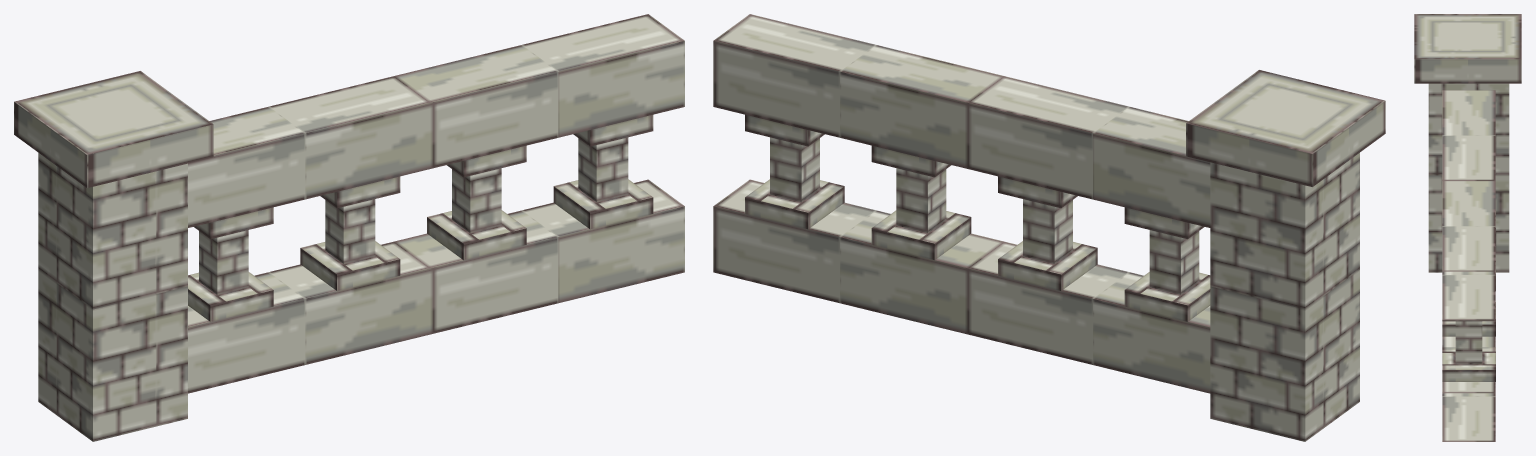
The model's file is stone_railing_with_middlepiece.fbx.
3 renders of one model, left to right at view 1: azimuth 30°, elevation 25°; view 2: azimuth 150°, elevation 25°; view 3: azimuth 270°, elevation 25°, orthographic. The views are drawn at different scales.
Parts seen in each view (by area): view 1: stone_railing_with_middlepiece; view 2: stone_railing_with_middlepiece; view 3: stone_railing_with_middlepiece.
Boxes of the visible parts, x1,y1,x2,y2 form: stone_railing_with_middlepiece: (14, 14, 684, 441); stone_railing_with_middlepiece: (713, 14, 1385, 441); stone_railing_with_middlepiece: (1414, 14, 1521, 441).
Size of the model in its own units: 488 by 225 by 100.
